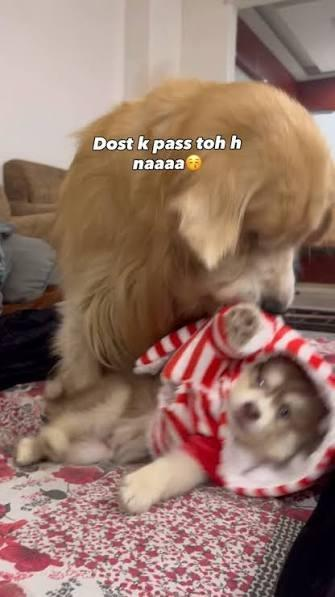adult_dog: (15, 75, 335, 471)
puppy-dog: (115, 304, 335, 510)
